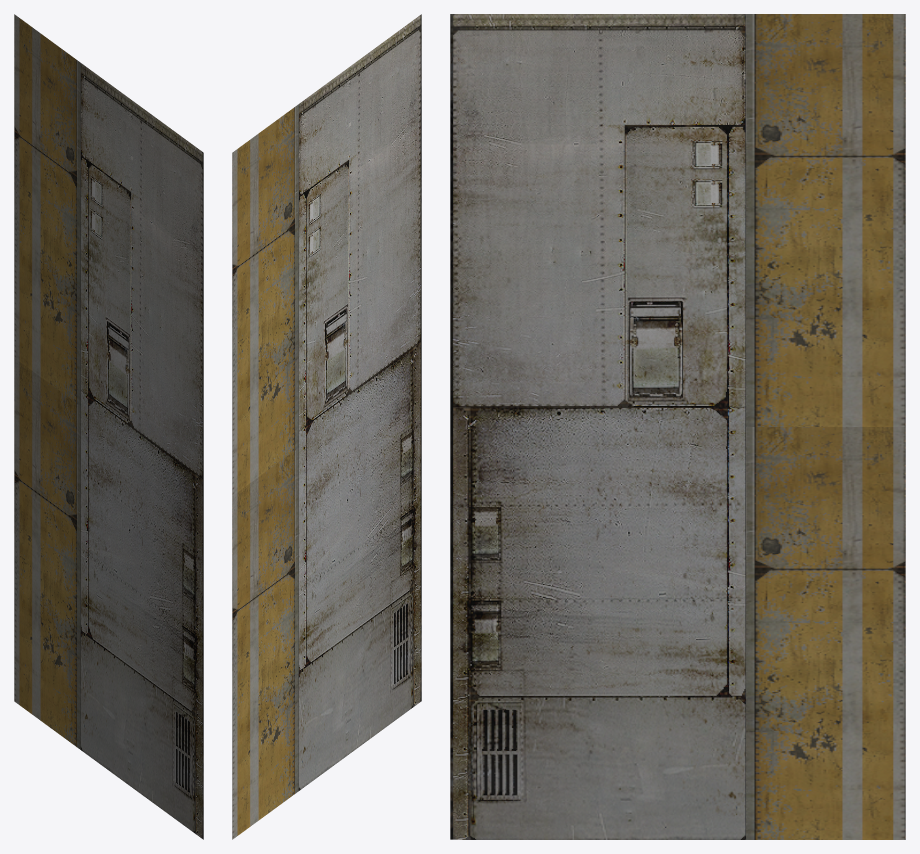
The model's file is Wall_J_Giant10mts_05.fbx.
The picture shows the model from 3 angles, left to right: view 1: azimuth 30°, elevation 25°; view 2: azimuth 150°, elevation 25°; view 3: azimuth 270°, elevation 25°; orthographic projection. The views are drawn at different scales.
Parts seen in each view (by area): view 1: Wall_J_Giant10mts_05; view 2: Wall_J_Giant10mts_05; view 3: Wall_J_Giant10mts_05.
Boxes of the visible parts, x1=… form: Wall_J_Giant10mts_05: x1=14, y1=14, x2=203, y2=839; Wall_J_Giant10mts_05: x1=232, y1=14, x2=421, y2=839; Wall_J_Giant10mts_05: x1=450, y1=14, x2=905, y2=839.
Bounding box in the file's own units: 0.00195 × 2000 × 1000.
Materials: 1 (1 with a texture image).
